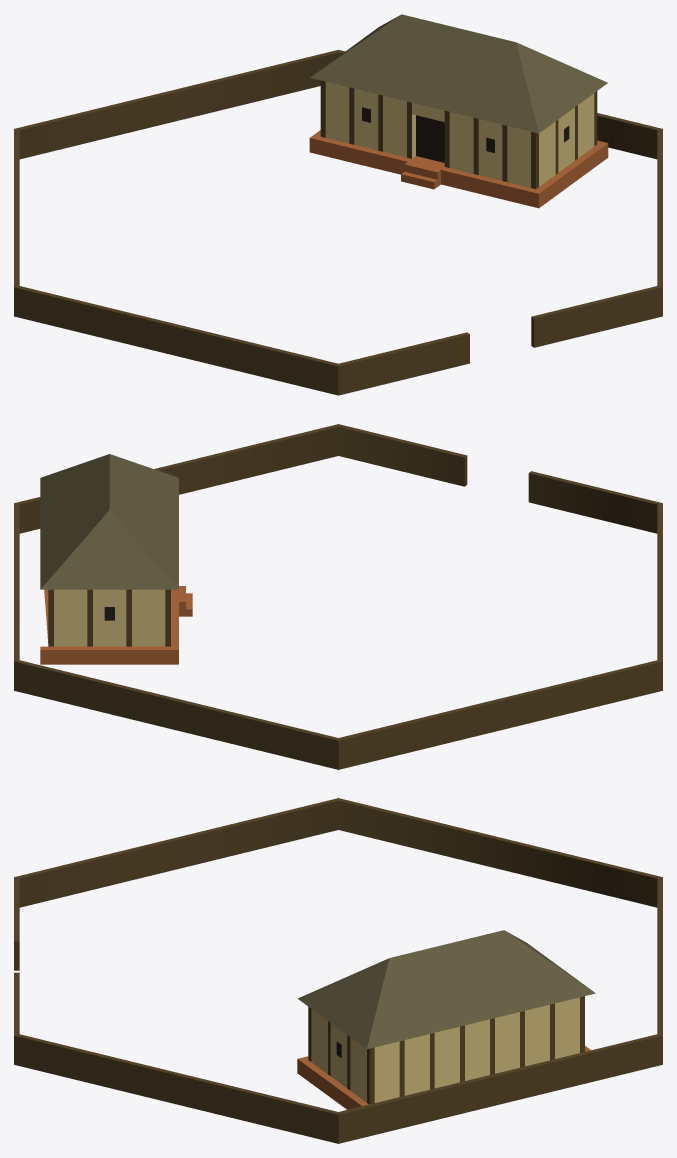
Rendered from MJ_Building_House_T1.fbx.
The picture shows the model from 3 angles, top to bottom: view 1: azimuth 30°, elevation 25°; view 2: azimuth 150°, elevation 25°; view 3: azimuth 270°, elevation 25°; orthographic projection.
Visible parts, largest first — view 1: Group1, Model; view 2: Model, Group1; view 3: Model, Group1.
Part boxes in pixels (<box>): Group1: <box>309,14,608,208</box>; Model: <box>14,50,662,395</box>; Model: <box>14,424,662,769</box>; Group1: <box>40,454,192,664</box>; Model: <box>14,798,662,1143</box>; Group1: <box>297,930,595,1109</box>.
Bounding box in the file's own units: 5.82 × 1.09 × 5.04.
